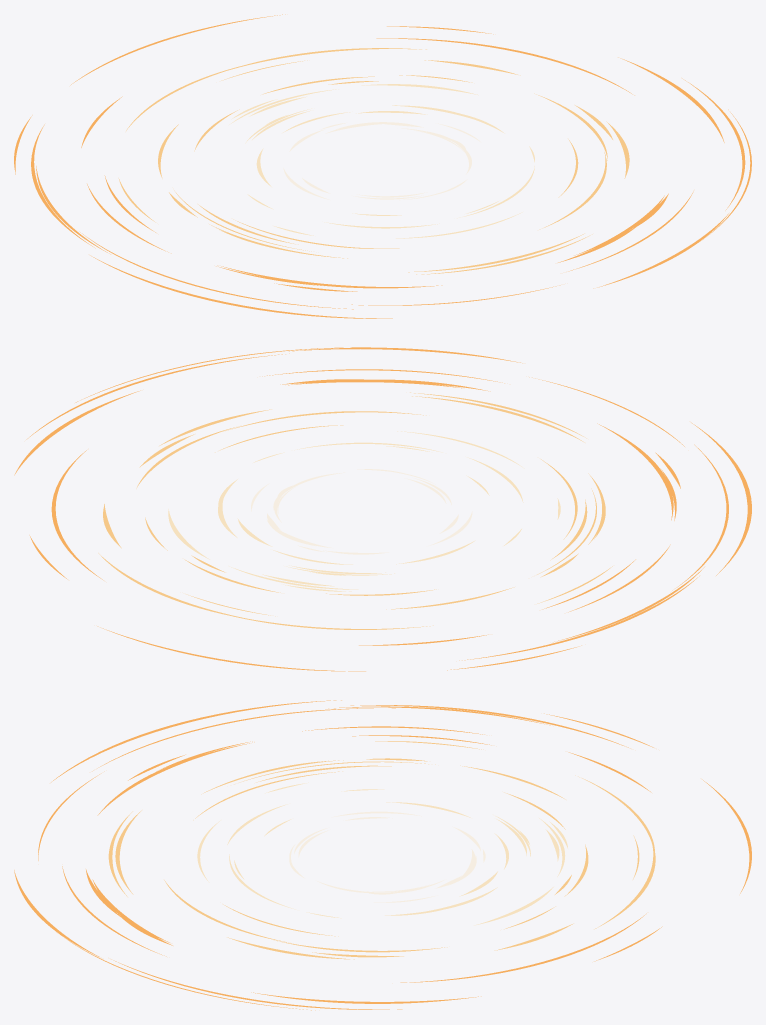
File: gargantua_disk_streaks.glb
The picture shows the model from 3 angles, top to bottom: view 1: azimuth 30°, elevation 25°; view 2: azimuth 150°, elevation 25°; view 3: azimuth 270°, elevation 25°; orthographic projection. The views are drawn at different scales.
Visible parts, largest first — view 1: gargantua_disk_streaks; view 2: gargantua_disk_streaks; view 3: gargantua_disk_streaks.
Part boxes in pixels (<box>): gargantua_disk_streaks: <box>14,14,751,318</box>; gargantua_disk_streaks: <box>14,347,751,671</box>; gargantua_disk_streaks: <box>14,700,751,1010</box>.
Bounding box in the file's own units: 19.15 × 0 × 19.22.
